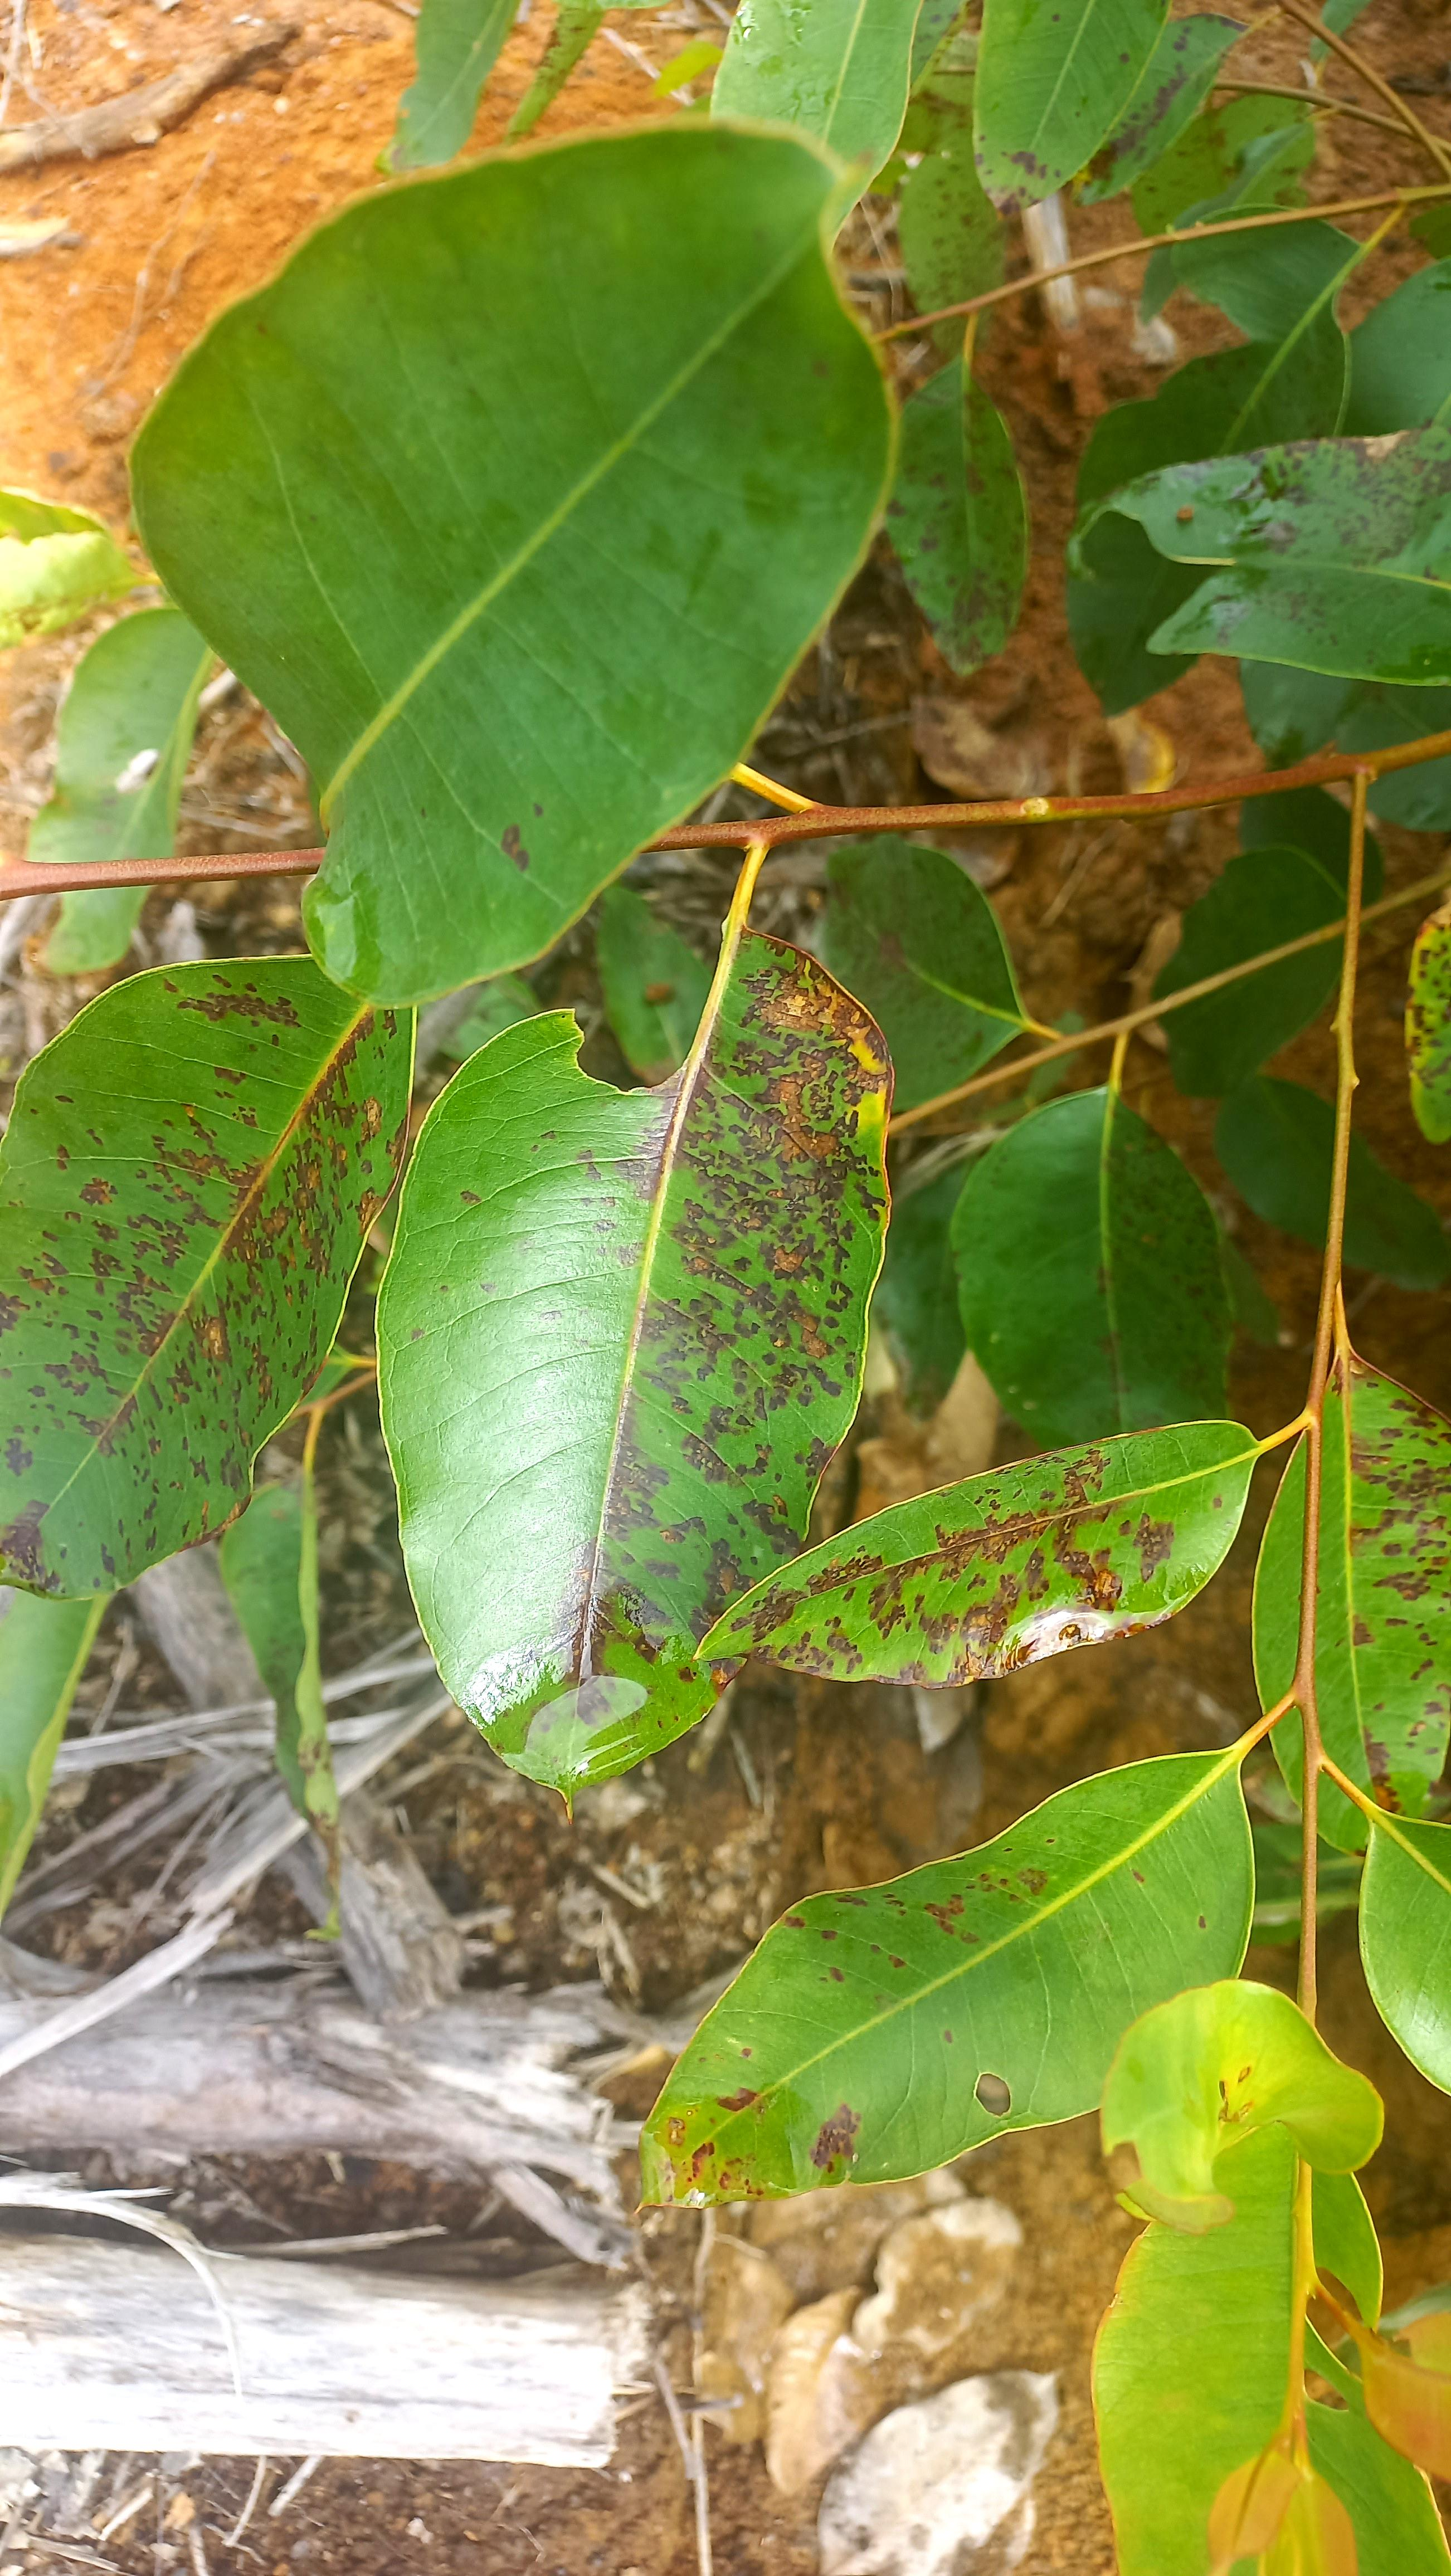Xanthomonas: (430, 948, 862, 1546), (0, 938, 395, 1578), (664, 1744, 1255, 2143), (710, 1444, 1196, 1695), (1322, 1327, 1451, 1649)
